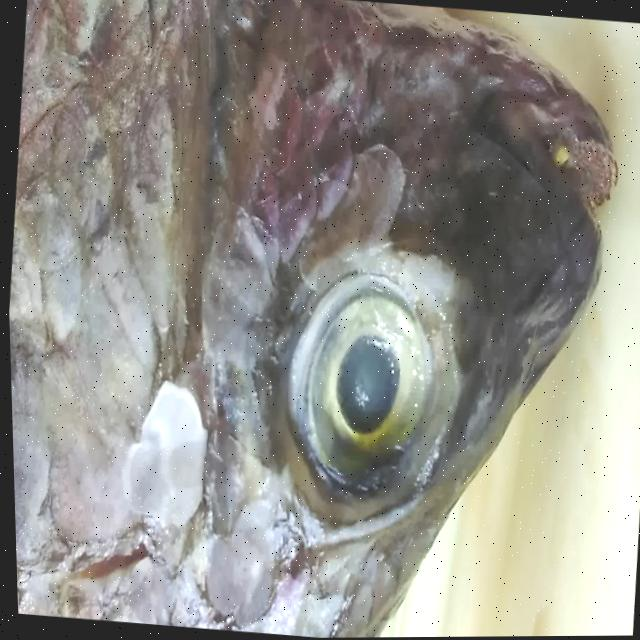Non-Fresh: (245, 234, 486, 537)
